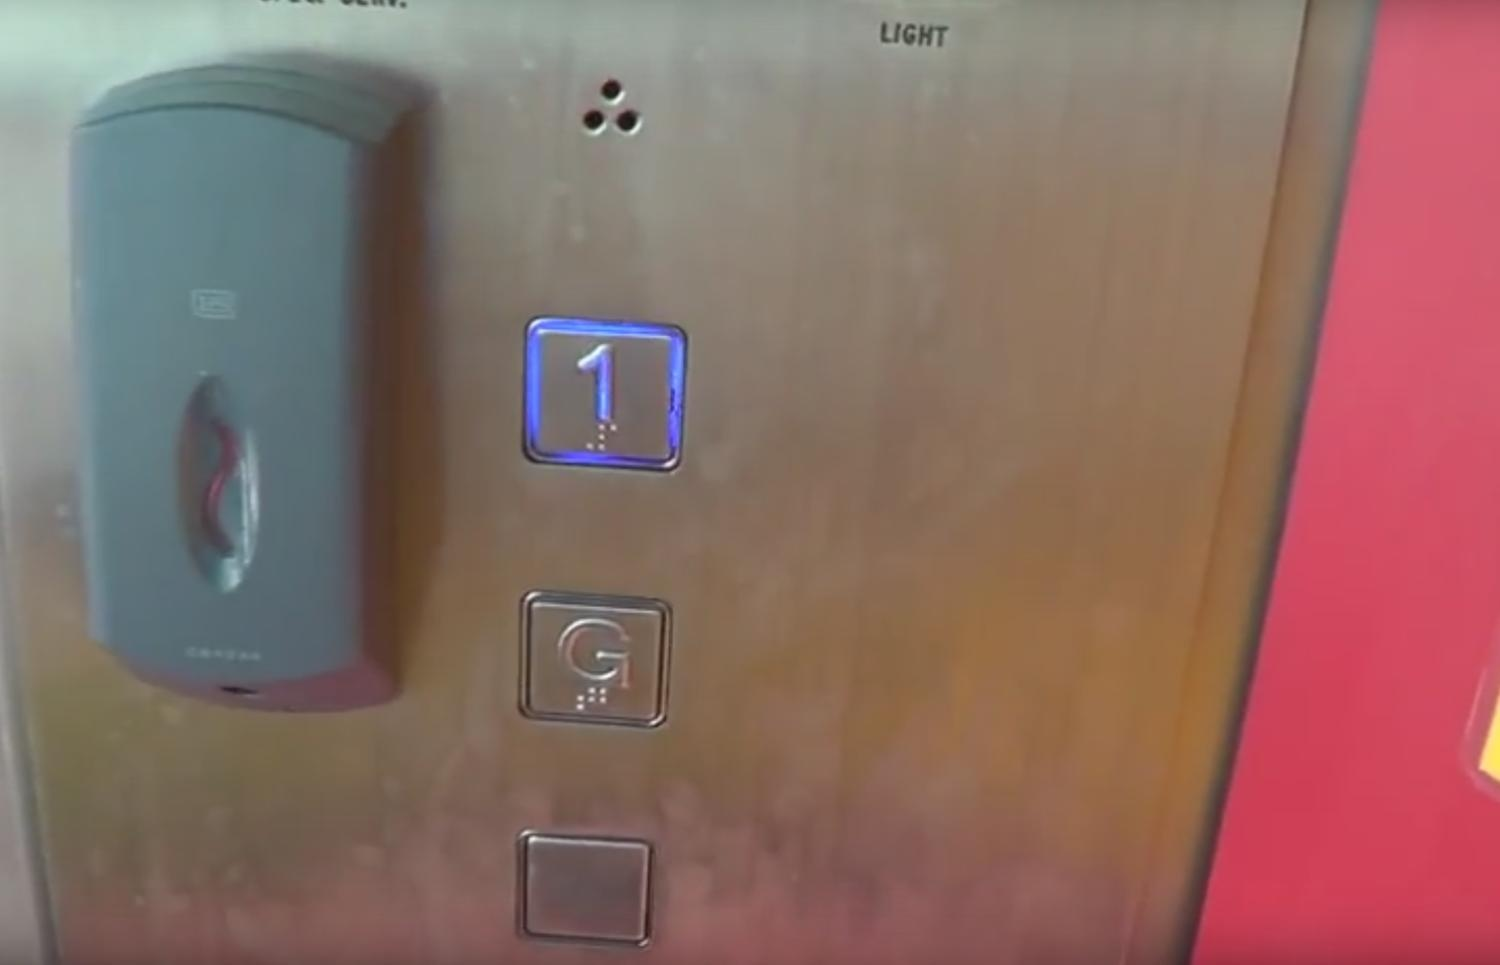1: (520, 313, 691, 478)
G: (515, 585, 677, 738)
empty: (509, 824, 660, 954)
